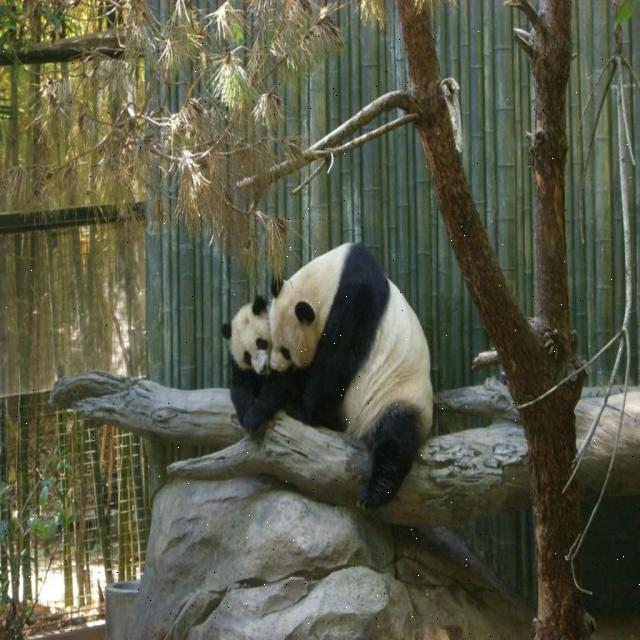panda: (272, 239, 435, 515), (217, 293, 275, 435)
